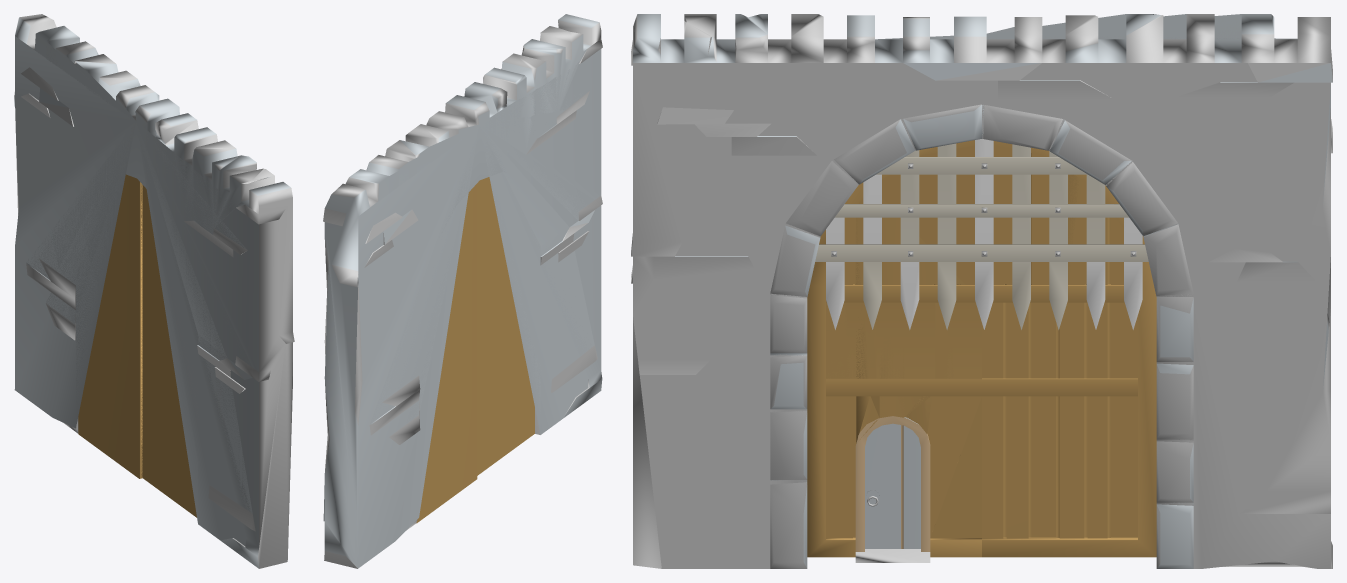
Rendered from Gats.fbx.
The picture shows the model from 3 angles, left to right: view 1: azimuth 30°, elevation 25°; view 2: azimuth 150°, elevation 25°; view 3: azimuth 270°, elevation 25°; orthographic projection. The views are drawn at different scales.
Parts seen in each view (by area): view 1: Group2, Group9, Group12; view 2: Group2, Group12, Group9; view 3: Group2, Group9, Group12, Group4, Group5, Door1, Group6, Group8, Group7, Porog1.
Part boxes in pixels (bbox=[...]): Group2: bbox=[14, 14, 294, 568]; Group9: bbox=[78, 174, 142, 478]; Group12: bbox=[142, 185, 196, 517]; Group2: bbox=[323, 14, 602, 568]; Group12: bbox=[477, 177, 534, 475]; Group9: bbox=[416, 183, 477, 523]; Group2: bbox=[631, 14, 1332, 568]; Group9: bbox=[927, 141, 1156, 557]; Group12: bbox=[807, 140, 981, 557]; Group4: bbox=[770, 104, 1193, 568]; Group5: bbox=[826, 139, 1142, 329]; Door1: bbox=[855, 416, 930, 551]; Group6: bbox=[815, 244, 1148, 261]; Group8: bbox=[835, 204, 1128, 217]; Group7: bbox=[876, 157, 1087, 174]; Porog1: bbox=[855, 549, 930, 562].
Size of the model in its own units: 675 by 6300 by 7540.
